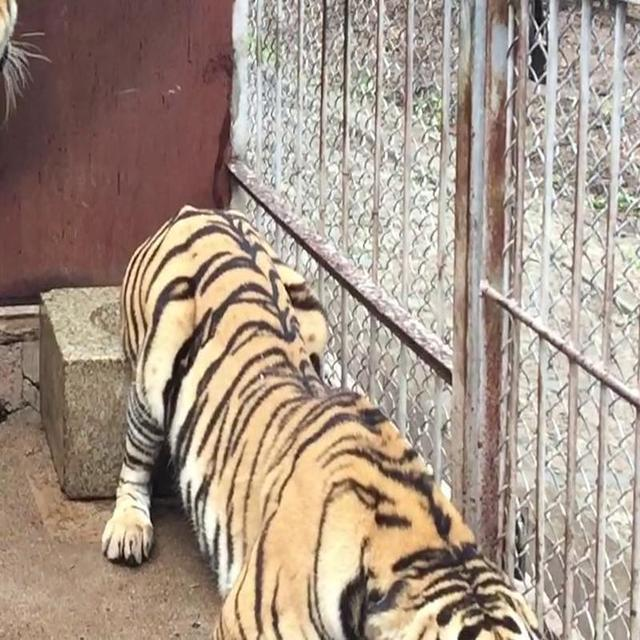tiger: (99, 202, 565, 639), (0, 0, 51, 129)
